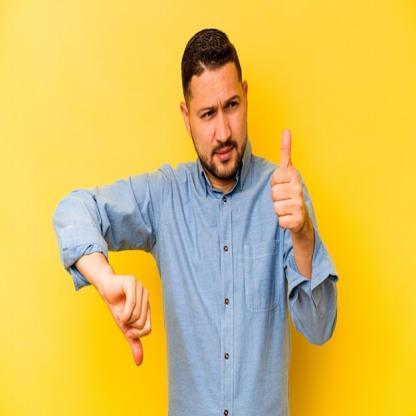thumb_down: (101, 264, 154, 367)
thumb_up: (267, 126, 311, 236)
